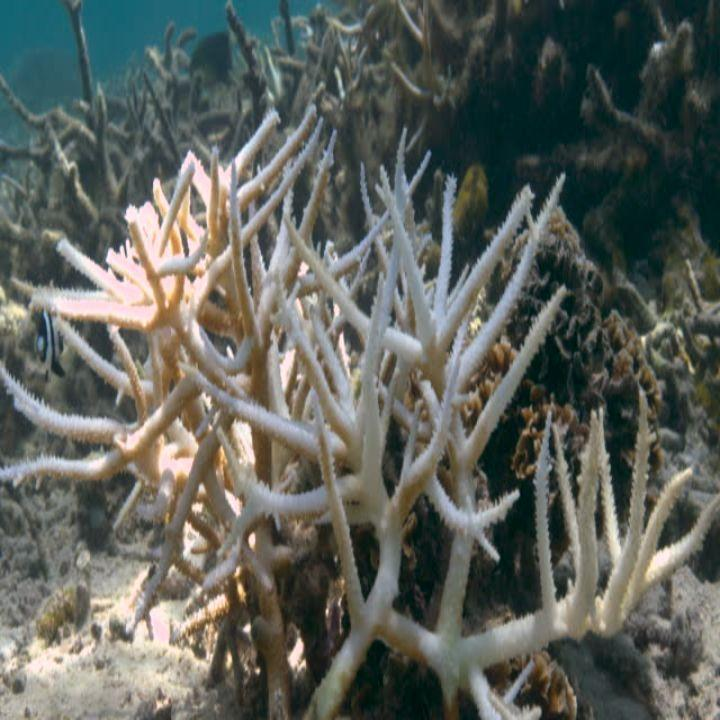Bleached disease: (0, 108, 620, 720)
